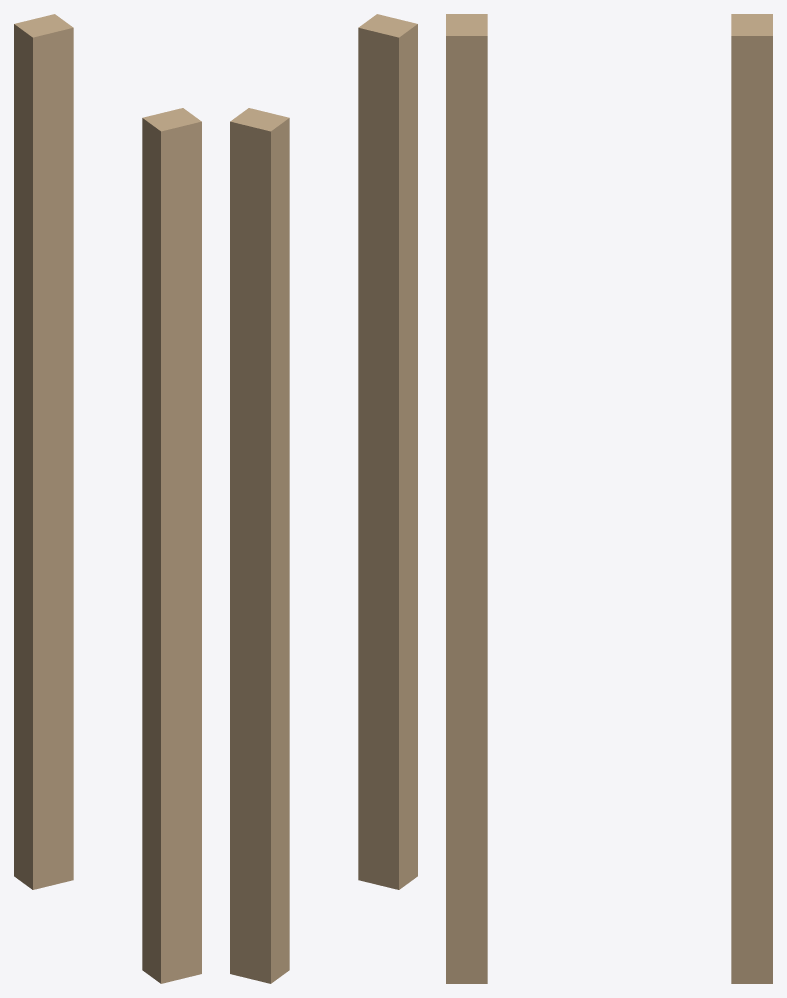
Rendered from Building Frame 1.fbx.
3 views of the same model, side by side, from view 1: azimuth 30°, elevation 25°; view 2: azimuth 150°, elevation 25°; view 3: azimuth 270°, elevation 25° (orthographic). The views are drawn at different scales.
Parts seen in each view (by area): view 1: Building Frame 1; view 2: Building Frame 1; view 3: Building Frame 1.
Part boxes in pixels (x1=…): Building Frame 1: x1=14, y1=14, x2=201, y2=983; Building Frame 1: x1=230, y1=14, x2=417, y2=983; Building Frame 1: x1=446, y1=14, x2=772, y2=983.
Bounding box in the file's own units: 0.05 × 1 × 0.3125.
